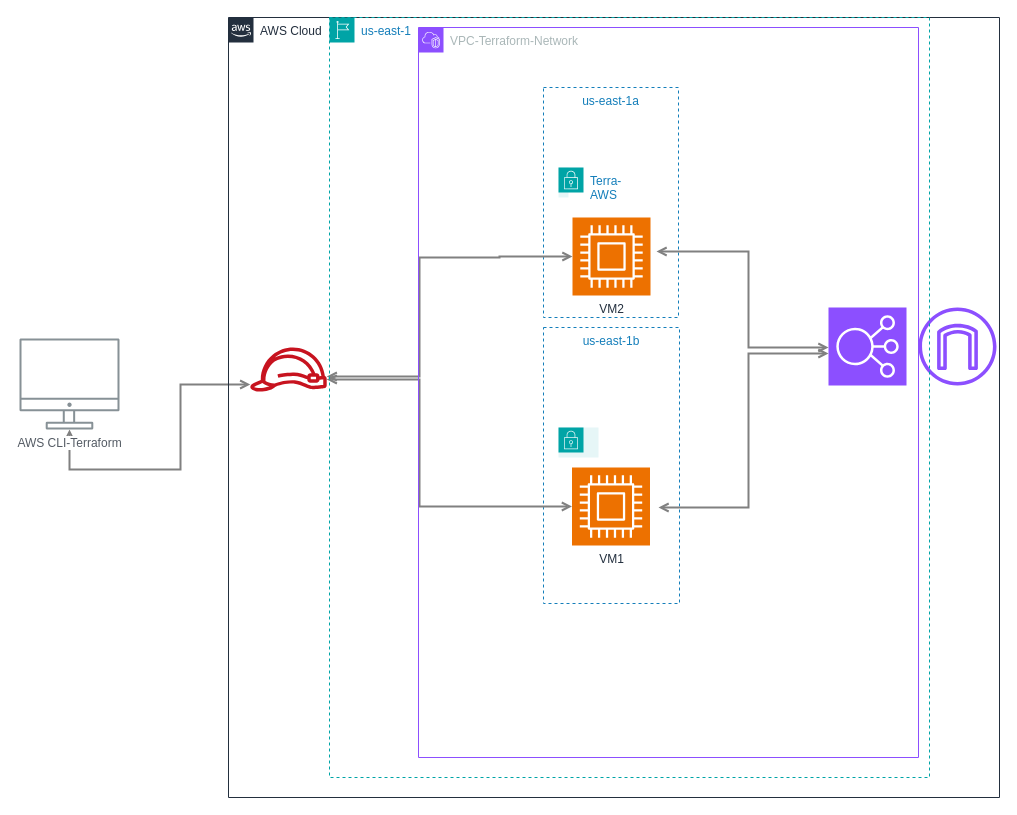
Some shapes in this 1017 by 815 pixel diagram are drawn without their labels. Each missing label, with the centre of its shape:
IAM Roles: the point at 288,369
IG: the point at 957,346
LB: the point at 867,346
Terra-AWS2: the point at 578,442
